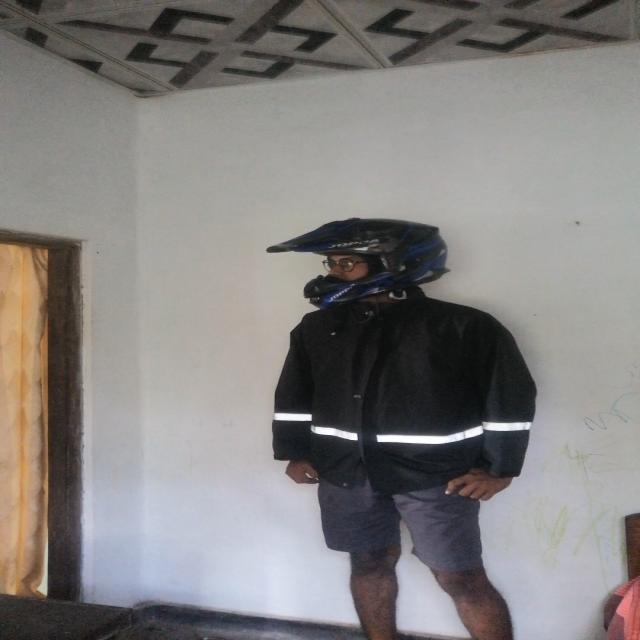Helmet_Wearer: (267, 216, 492, 316)
Jacket_Wearer: (263, 290, 522, 491)
